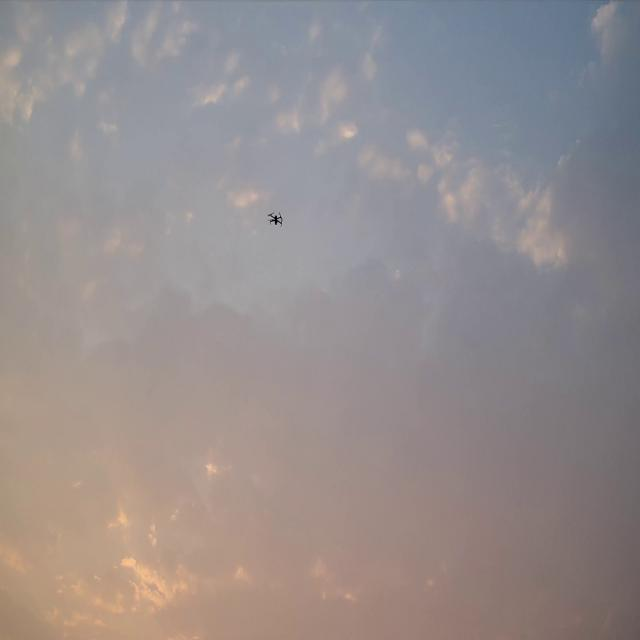UAV: (268, 210, 284, 228)
